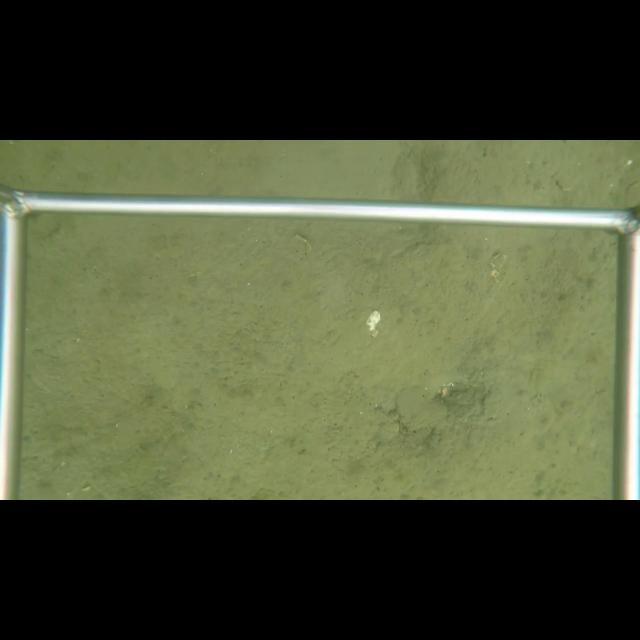Oyster-Closed: (395, 385, 454, 438)
